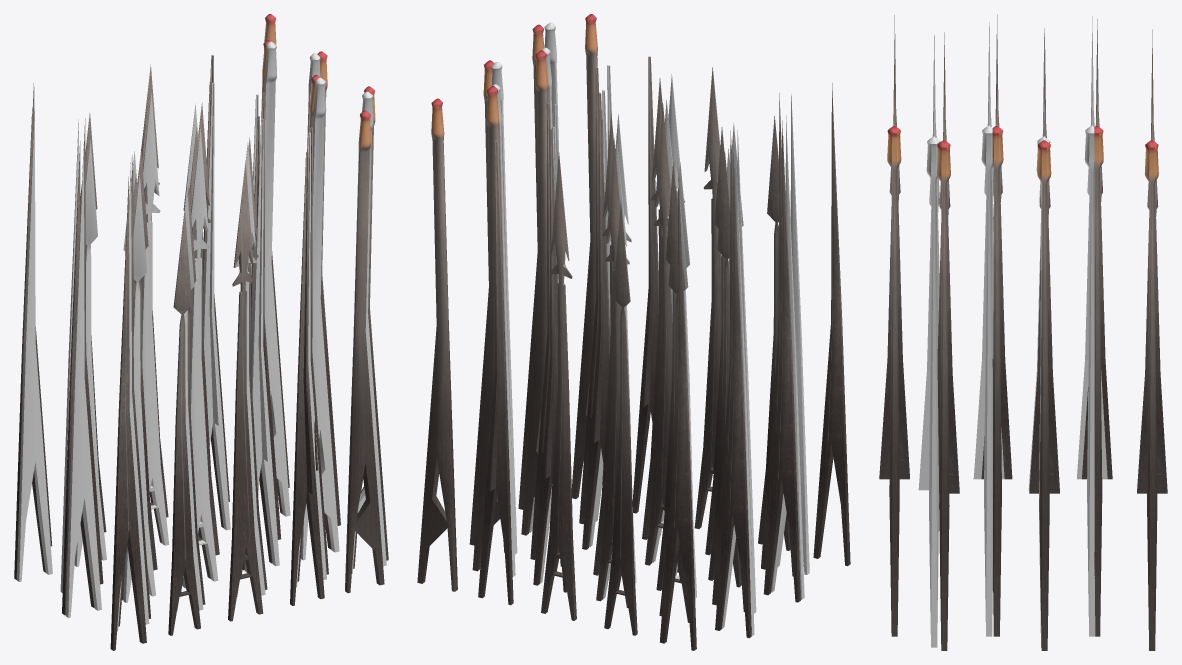
File: Piques.FBX
3 renders of one model, left to right at view 1: azimuth 30°, elevation 25°; view 2: azimuth 150°, elevation 25°; view 3: azimuth 270°, elevation 25°, orthographic. The views are drawn at different scales.
Visible parts, largest first — view 1: Piques003, Box017, Piques (×3), Box031, Piques001, Piques002, Box028, Box011, Box030, Box029, Box027, Box021 (+8 smaller); view 2: Piques (×3), Piques002, Piques003, Piques001, Box017, Box011, Box031, Box026, Box022, Box025, Box030, Box023 (+1 smaller); view 3: Piques (×3), Piques003, Piques001, Piques002, Box017, Box010, Box011, Box030, Box031, Box009, Box020, Box029 (+2 smaller).
Part boxes in pixels (x1,y1,x2,y2): Piques003: [110, 110, 384, 650]; Box017: [65, 77, 339, 617]; Piques (×3): [14, 14, 340, 584]; Box031: [16, 42, 287, 581]; Piques001: [118, 86, 388, 626]; Piques002: [62, 75, 331, 615]; Box028: [142, 92, 169, 545]; Box011: [117, 92, 383, 631]; Box030: [258, 41, 290, 516]; Box029: [198, 83, 230, 537]; Box027: [74, 140, 106, 566]; Box021: [300, 79, 336, 559]; Piques (×3): [417, 60, 751, 650]; Piques002: [521, 50, 800, 602]; Piques003: [571, 14, 850, 566]; Piques001: [518, 24, 793, 576]; Box017: [529, 47, 804, 599]; Box011: [544, 23, 809, 574]; Box031: [480, 84, 754, 636]; Box026: [491, 62, 756, 613]; Box022: [679, 162, 696, 598]; Box025: [492, 62, 517, 554]; Box030: [480, 84, 515, 576]; Box023: [616, 113, 636, 582]; Piques (×3): [1029, 19, 1167, 650]; Piques003: [879, 15, 909, 636]; Piques001: [937, 32, 959, 650]; Piques002: [981, 14, 1012, 636]; Box017: [980, 22, 993, 630]; Box010: [926, 137, 940, 647]; Box011: [918, 34, 939, 643]; Box030: [1084, 126, 1095, 636]; Box031: [1086, 16, 1094, 622]; Box009: [918, 136, 939, 490]; Box020: [973, 126, 1004, 479]; Box029: [1077, 125, 1107, 479].
Size of the model in its own units: 1.21 by 1.85 by 0.9627.
